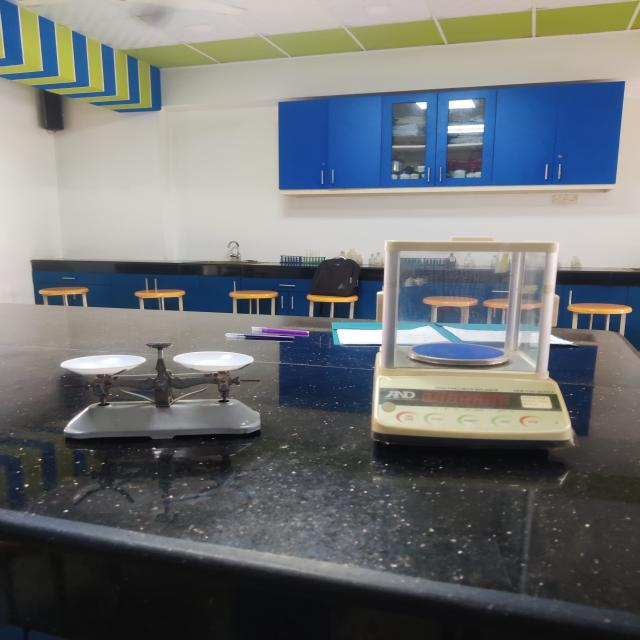Mechanical_Balance_Scale: (40, 330, 279, 456)
Precision_Weight_Scale: (357, 214, 594, 462)
